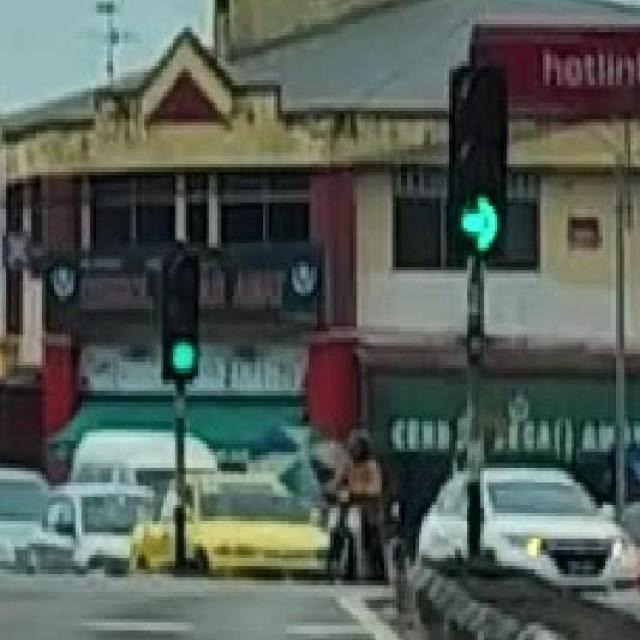green_light: (454, 64, 507, 256), (164, 254, 198, 376)
